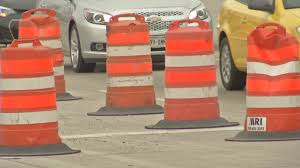barrel: (1, 49, 61, 147), (246, 25, 300, 132), (163, 20, 219, 119), (105, 15, 156, 106), (21, 12, 68, 94)
